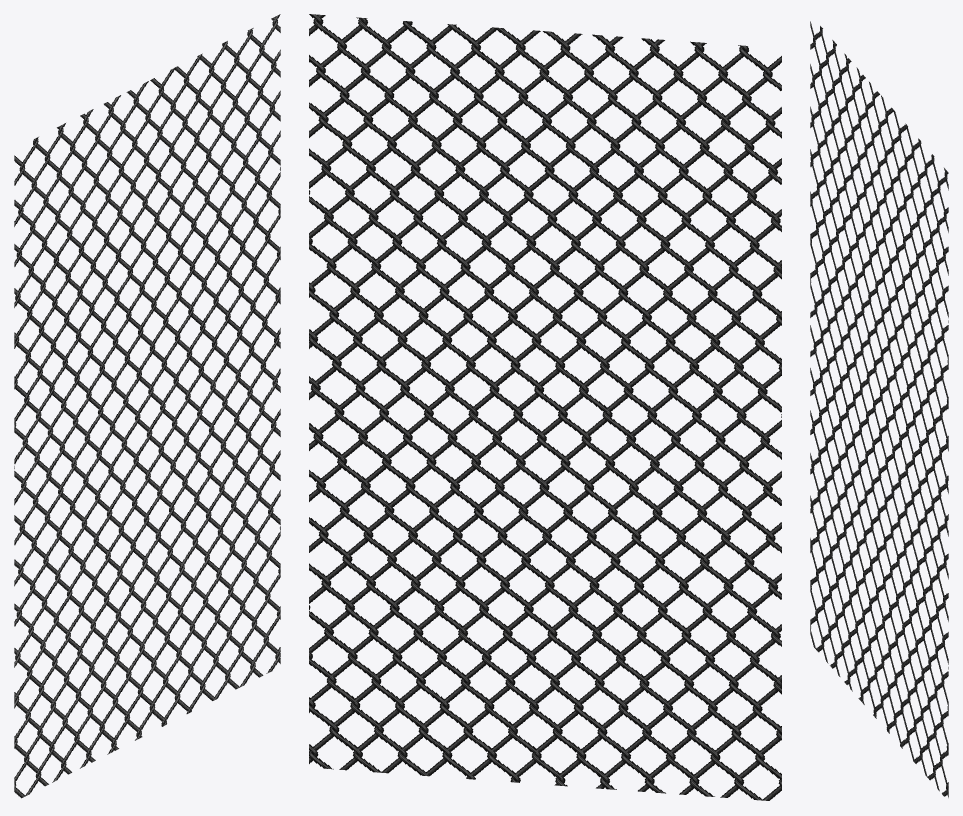
The model's file is chain_link_fence_2.glb.
3 views of the same model, side by side, from view 1: azimuth 30°, elevation 25°; view 2: azimuth 150°, elevation 25°; view 3: azimuth 270°, elevation 25° (orthographic). The views are drawn at different scales.
Parts seen in each view (by area): view 1: Object; view 2: Object; view 3: Object.
Boxes of the visible parts, x1,y1,x2,y2 form: Object: (14,14,280,798); Object: (309,14,781,800); Object: (810,21,948,797).
Size of the model in its own units: 1.08 by 1.99 by 0.3976.
1 material, 1 textured.
